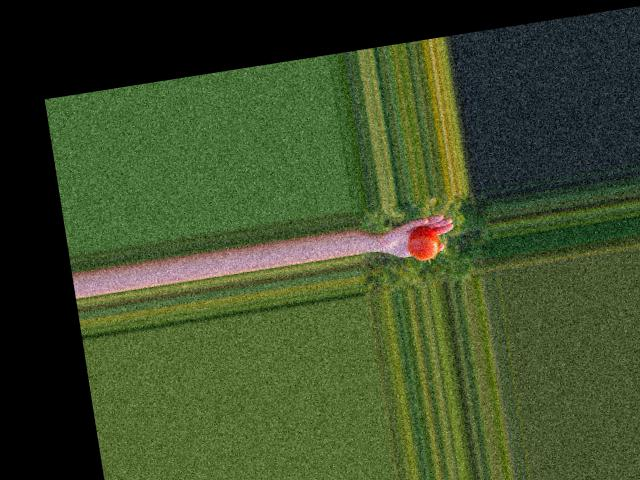tomato: (406, 223, 441, 261)
